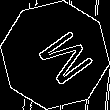M_SW: (21, 21, 89, 89)
